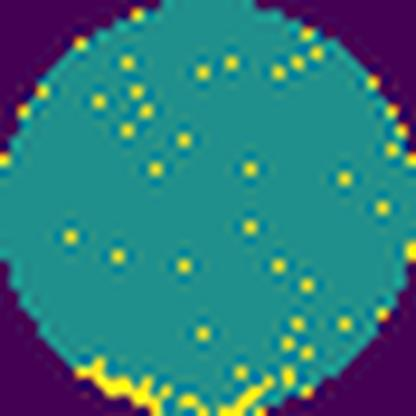Edge-Loc: (73, 352, 173, 416), (178, 384, 278, 416)
